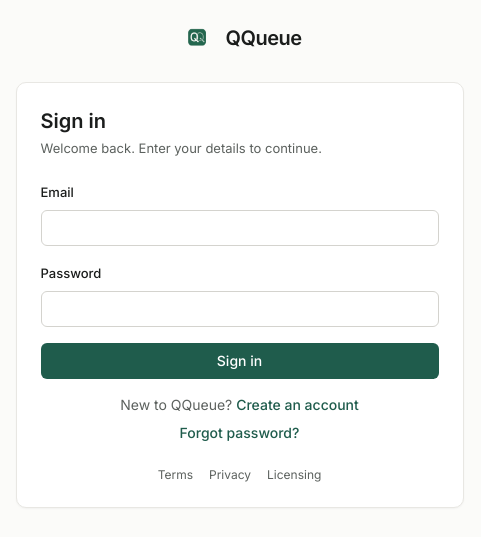
it: Login › requires a password
Type "a@b.com" into the field labelled "Email" at {"x": 240, "y": 228}, box [40,210,438,246]
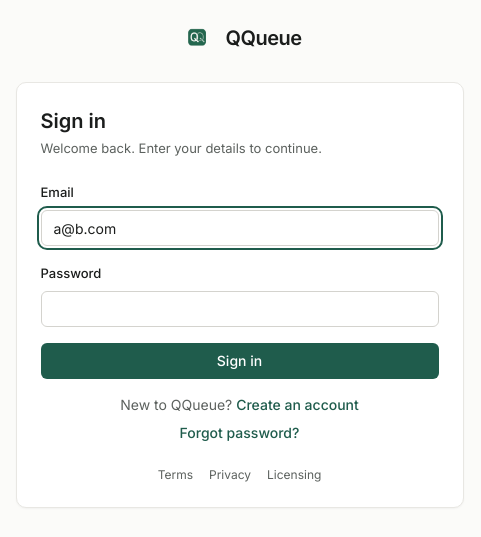
Click the button "Sign in" at {"x": 240, "y": 361}, box [40,343,438,379]
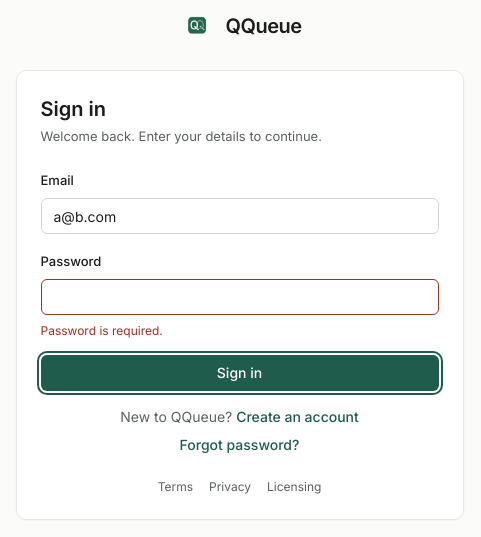
Expected: the text "Password is required." is shown, [40,323,163,338]
